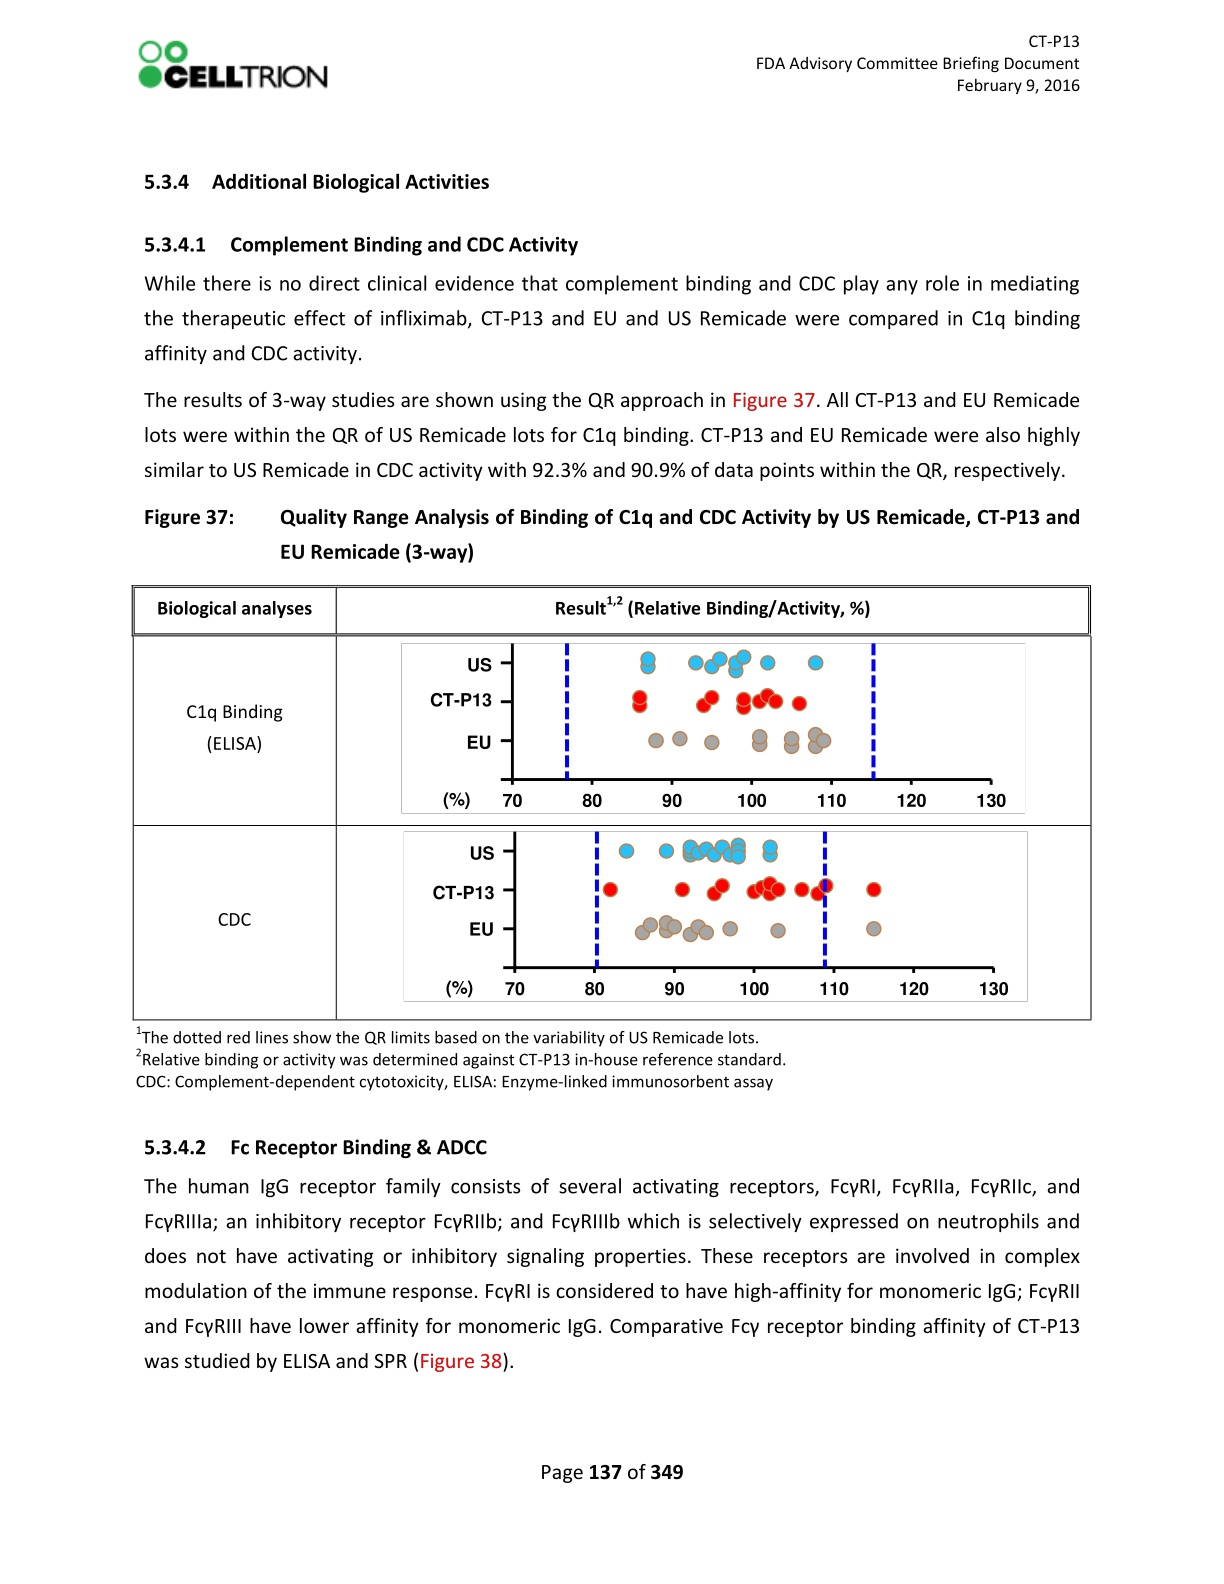full_lined: (130, 584, 1093, 1022)
